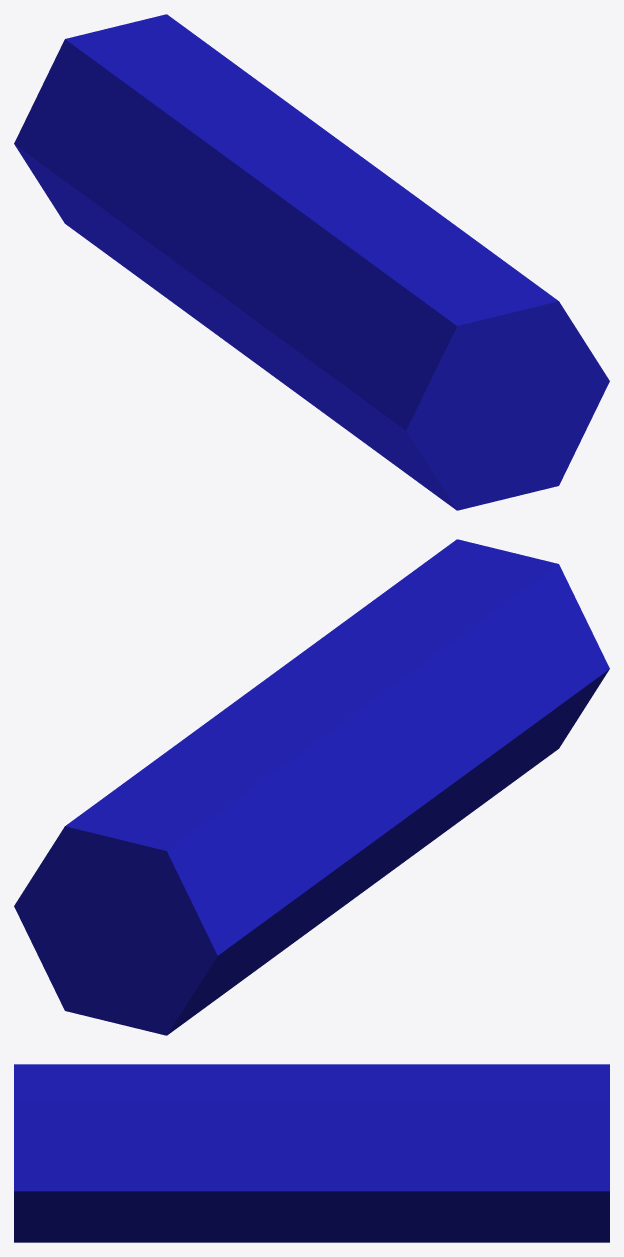
Rendered from pentagon.obj.
The picture shows the model from 3 angles, top to bottom: view 1: azimuth 30°, elevation 25°; view 2: azimuth 150°, elevation 25°; view 3: azimuth 270°, elevation 25°; orthographic projection. The views are drawn at different scales.
Visible parts, largest first — view 1: ___06; view 2: ___06; view 3: ___06.
Boxes of the visible parts, x1=… form: ___06: x1=14, y1=14, x2=609, y2=510; ___06: x1=14, y1=539, x2=609, y2=1035; ___06: x1=14, y1=1064, x2=609, y2=1242.
Size of the model in its own units: 0.003 by 0.0026 by 0.01.
